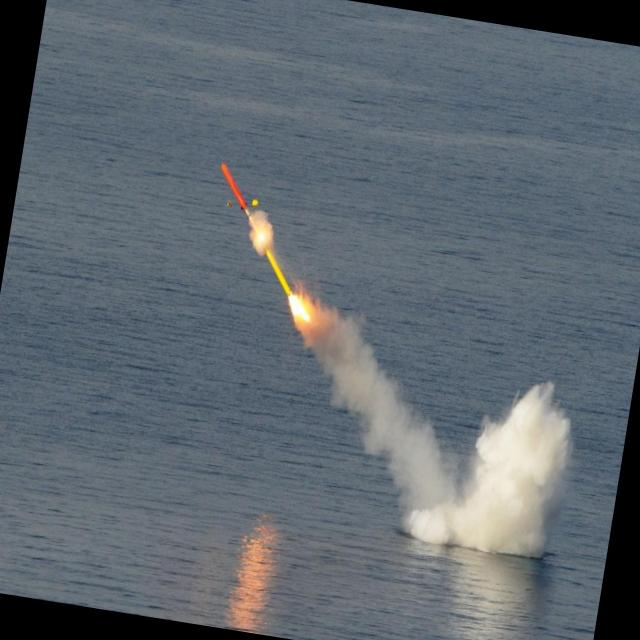rocket: (195, 160, 350, 347)
